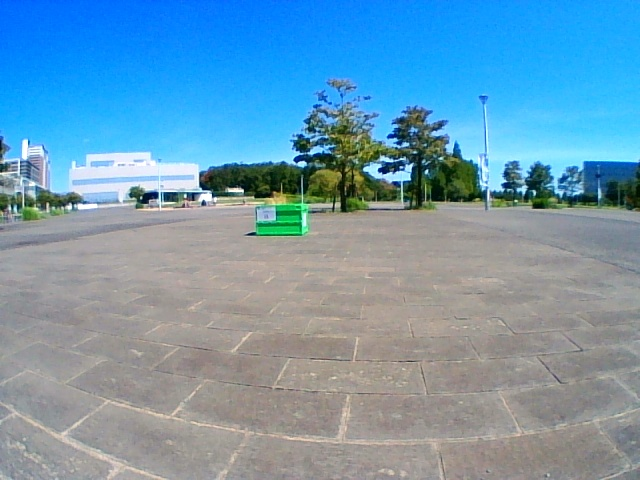green_box: (256, 204, 307, 235)
tag: (257, 207, 275, 222)
